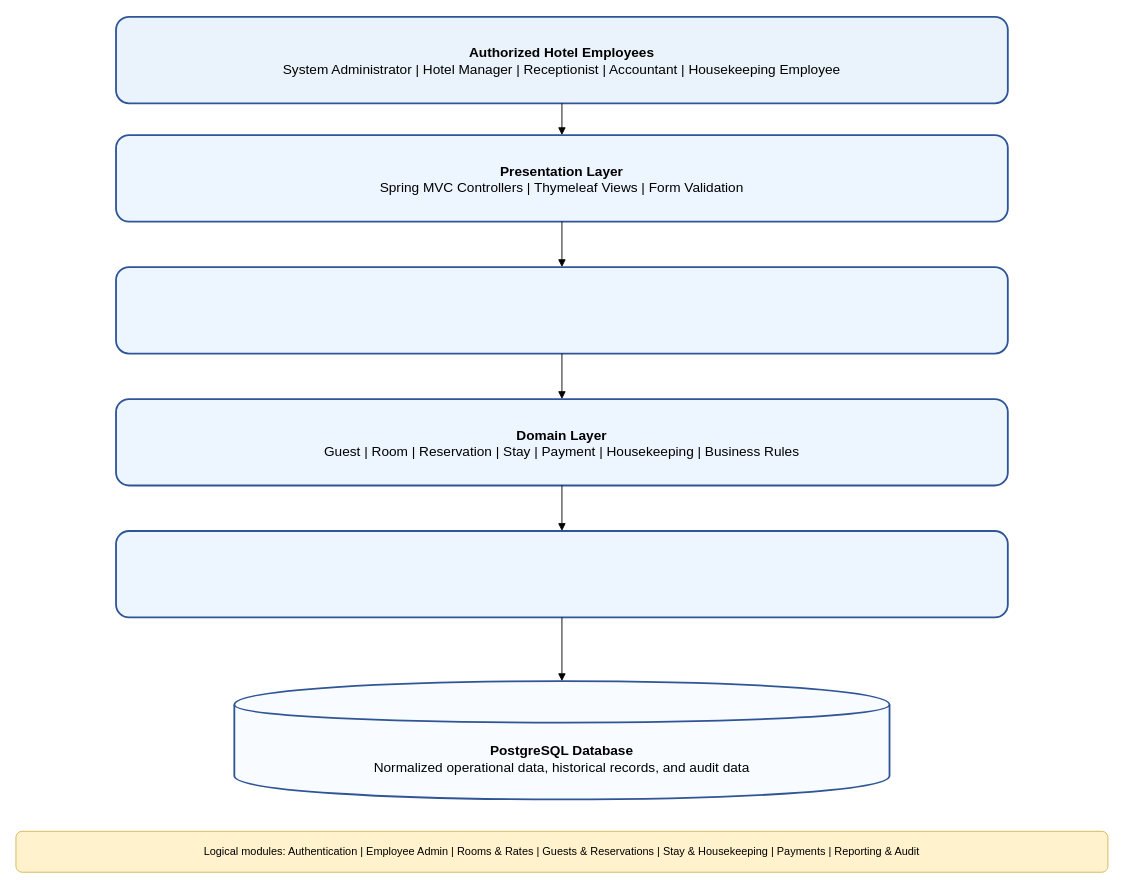
This 1124x888 diagram has some shape labels left out. The box of each missing label's shape, as (x1, y1, x2, y2) in pixels:
Application Service Layer Use-case Coordination | Transactions | Role Checks: (115, 266, 1008, 354)
Data Access Layer Spring Data JPA Repositories | Flyway Database Migrations: (115, 530, 1008, 618)
